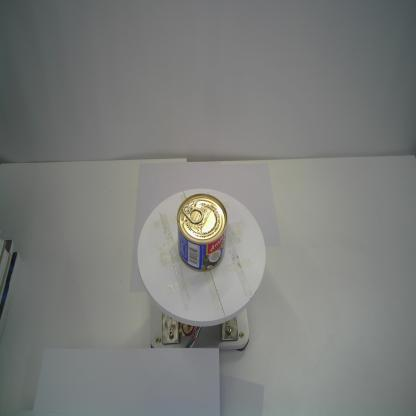Canned Food: (174, 192, 228, 274)
